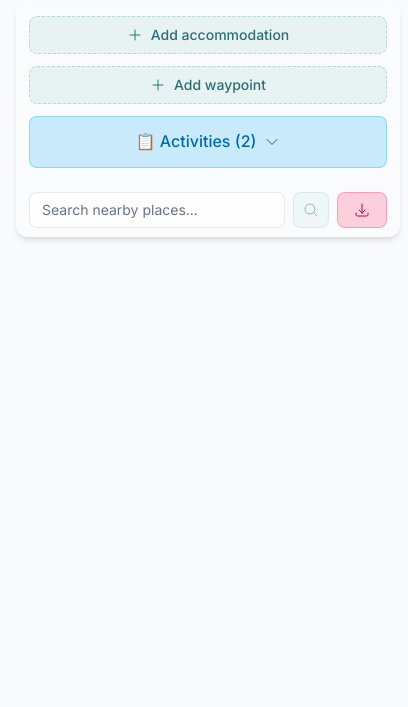
Test case: ActivitiesPanel todo chips › chips only the activity the todo is linked to
Click the button "📋 Activities (2)": (208, 142) [29,116,387,168]
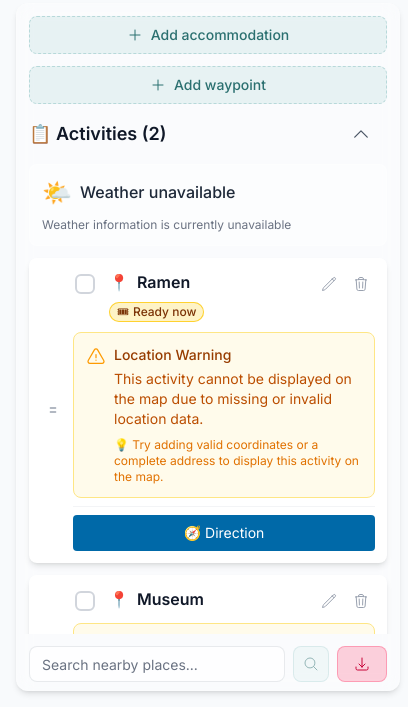
Result: the text "Ready now" is shown once at [109,302,204,322]
